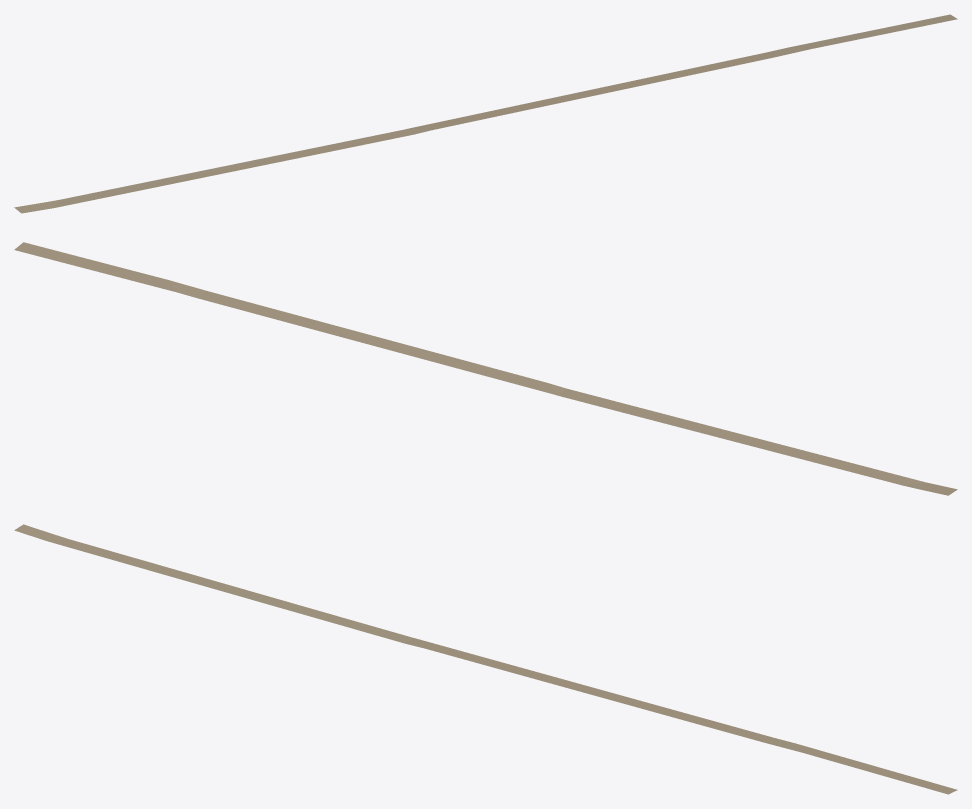
Rendered from farm_-5_1_track.glb.
3 views of the same model, one above another, from view 1: azimuth 30°, elevation 25°; view 2: azimuth 150°, elevation 25°; view 3: azimuth 330°, elevation 25° (orthographic). The views are drawn at different scales.
Visible parts, largest first — view 1: geometry_0; view 2: geometry_0; view 3: geometry_0.
Boxes of the visible parts, box(x1,y1,x2,y2) form: geometry_0: box(14, 14, 957, 213); geometry_0: box(14, 242, 957, 495); geometry_0: box(14, 524, 957, 794).
Bounding box in the file's own units: 208 × 2.07 × 13.89.
